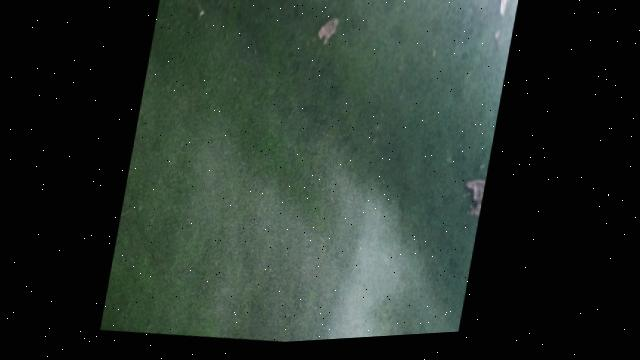stemcanker: (312, 14, 345, 48), (464, 177, 489, 219)
